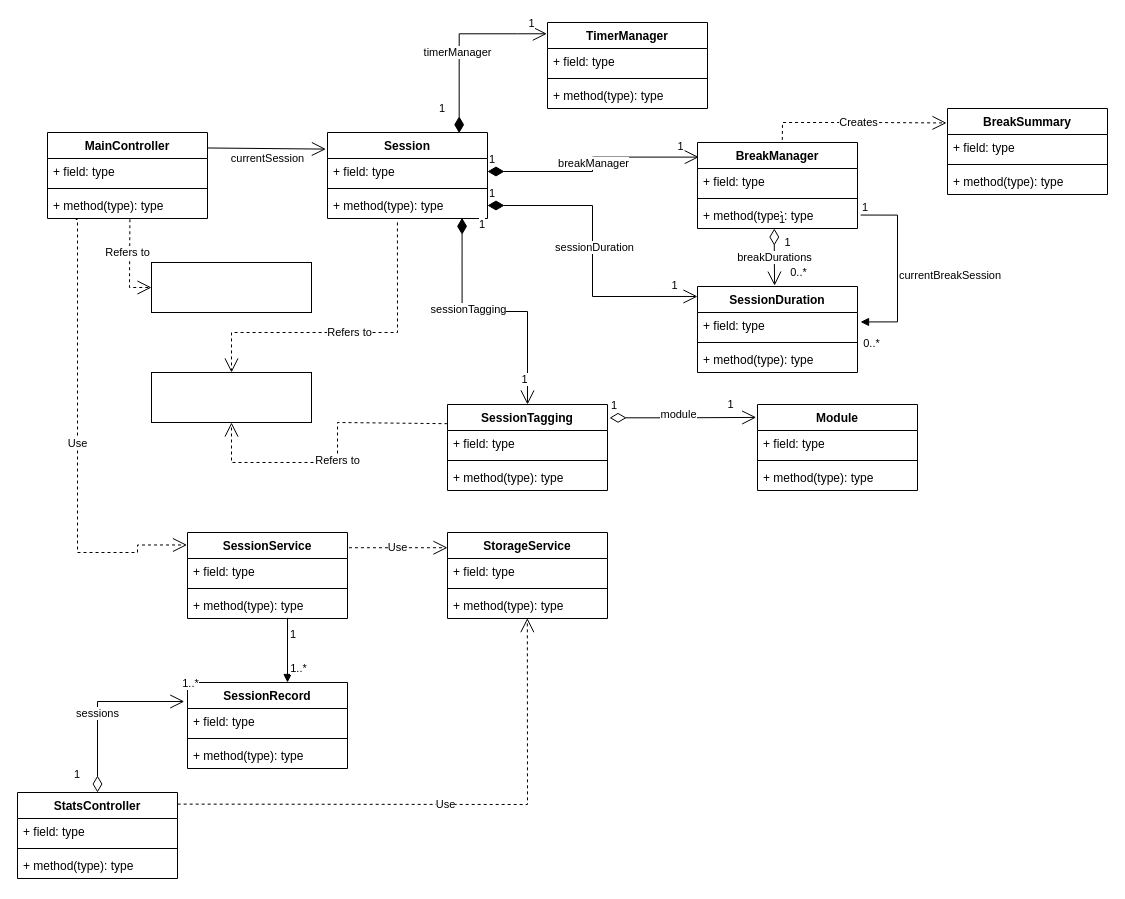
This 1125x899 diagram has some shape labels left out. Here are the shapes that lost their labels. From the top down, the centre of each, then its label:
At pixel 231 287: "«enumeration» SessionDurationEnum".
At pixel 231 397: "«enumeration» DefaultSessionCategory".
